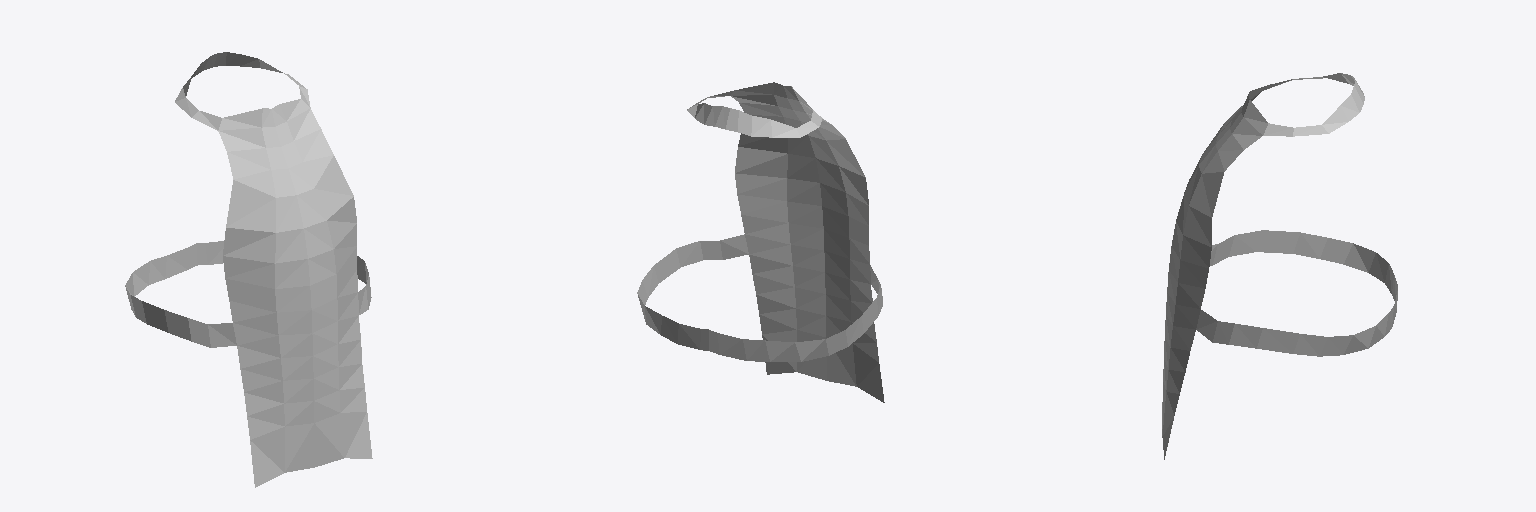
File: apron_z.obj
3 renders of one model, left to right at view 1: azimuth 30°, elevation 25°; view 2: azimuth 150°, elevation 25°; view 3: azimuth 270°, elevation 25°, orthographic.
Bounding box in the file's own units: 0.7537 × 1.22 × 0.7427.